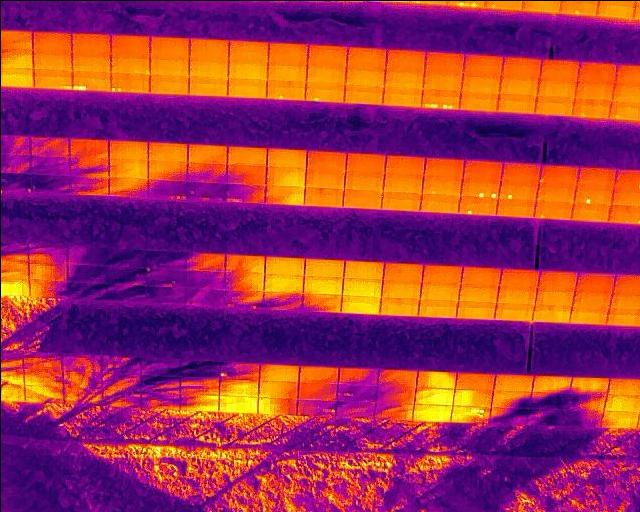Cell: (573, 183, 612, 204), (572, 98, 612, 117), (538, 164, 577, 183), (306, 81, 345, 100), (266, 79, 305, 98), (534, 201, 572, 219), (422, 177, 461, 194), (499, 183, 538, 200), (458, 198, 497, 215), (560, 1, 598, 14)
Cell-Multi: (421, 90, 460, 108), (460, 181, 499, 198), (111, 74, 149, 91), (451, 406, 490, 421)
No-Anomaly: (345, 151, 385, 174), (304, 257, 344, 278), (424, 51, 464, 72), (383, 155, 424, 175), (575, 271, 614, 292), (186, 142, 225, 163), (110, 52, 149, 73), (304, 168, 344, 188), (303, 186, 343, 206), (265, 165, 305, 185), (267, 41, 307, 61), (463, 53, 503, 73), (228, 39, 268, 59), (462, 159, 500, 180), (500, 267, 539, 287), (343, 260, 382, 280), (265, 184, 304, 204), (537, 270, 576, 290), (147, 141, 186, 161), (189, 37, 228, 57), (32, 30, 71, 50), (225, 146, 266, 165), (346, 46, 387, 65), (500, 162, 538, 182), (108, 157, 148, 176), (344, 82, 384, 101), (107, 139, 147, 158), (266, 148, 306, 167), (382, 84, 422, 103), (306, 63, 346, 82), (227, 77, 267, 96), (149, 74, 189, 93), (423, 71, 463, 90), (149, 54, 189, 73), (307, 44, 347, 63), (386, 47, 426, 66), (71, 33, 111, 52), (149, 36, 189, 55), (531, 374, 569, 394), (383, 262, 422, 281), (381, 190, 420, 209), (343, 188, 382, 207), (422, 264, 461, 283), (379, 297, 418, 316), (340, 294, 379, 313), (71, 52, 110, 71), (539, 59, 580, 77), (227, 59, 268, 77), (596, 0, 634, 19), (423, 158, 463, 176), (343, 172, 383, 190), (341, 278, 381, 296), (188, 57, 228, 75), (576, 62, 616, 80), (306, 150, 346, 168), (498, 74, 538, 92), (574, 79, 614, 97), (32, 50, 72, 68), (258, 364, 298, 382), (536, 78, 578, 95), (570, 376, 607, 395), (460, 266, 499, 284), (459, 283, 498, 301), (264, 256, 303, 274), (417, 299, 456, 317), (456, 301, 495, 319), (536, 95, 575, 113), (460, 91, 499, 109), (497, 93, 536, 111), (189, 74, 228, 92), (111, 34, 150, 52), (414, 386, 453, 404), (571, 203, 609, 221), (494, 302, 532, 320), (454, 388, 492, 406), (455, 372, 493, 390), (532, 304, 570, 322), (495, 199, 535, 216), (263, 275, 303, 292), (382, 175, 422, 192), (302, 277, 342, 294), (536, 183, 576, 200), (501, 57, 541, 74), (345, 66, 385, 83), (461, 74, 501, 91), (384, 67, 424, 84), (298, 366, 338, 383), (412, 404, 451, 421), (416, 371, 455, 388), (421, 194, 459, 211), (420, 283, 458, 300), (382, 281, 420, 298), (498, 285, 536, 302), (494, 373, 532, 390), (569, 307, 607, 324), (267, 63, 307, 79), (218, 396, 257, 412), (219, 379, 258, 395), (257, 383, 298, 398), (535, 289, 573, 305), (572, 291, 610, 307), (601, 411, 638, 427), (604, 395, 640, 411), (577, 168, 614, 183)
Shadowing: (62, 383, 103, 406), (23, 383, 64, 404), (185, 182, 224, 204), (225, 251, 264, 273), (67, 244, 107, 265), (185, 270, 225, 291), (27, 243, 68, 263), (27, 263, 68, 283), (28, 176, 69, 196), (67, 283, 108, 303), (147, 179, 186, 200), (67, 263, 107, 283), (224, 183, 264, 203), (68, 137, 108, 157), (219, 360, 259, 380), (62, 367, 104, 386), (145, 269, 184, 289), (29, 280, 68, 300), (184, 251, 225, 270), (108, 176, 148, 195), (28, 156, 68, 175), (225, 164, 265, 183), (107, 284, 145, 304), (302, 293, 340, 313), (29, 137, 69, 156), (186, 163, 225, 182), (69, 176, 108, 195), (263, 292, 302, 311), (338, 366, 377, 385), (492, 390, 531, 409), (530, 391, 569, 410), (23, 367, 64, 385), (185, 290, 225, 308), (146, 289, 186, 307), (561, 410, 601, 428), (335, 403, 375, 421), (336, 384, 376, 402), (22, 349, 62, 367), (69, 158, 108, 176), (225, 273, 264, 291), (224, 292, 263, 310), (376, 368, 415, 386), (140, 375, 179, 393), (146, 250, 184, 268), (107, 266, 145, 284), (107, 249, 145, 267), (148, 161, 186, 179), (374, 403, 412, 421), (297, 382, 337, 399), (375, 386, 414, 403), (296, 399, 336, 415), (256, 397, 296, 413), (138, 394, 178, 410), (178, 394, 218, 410), (178, 379, 218, 395), (139, 359, 179, 375), (179, 361, 219, 377), (567, 394, 604, 411), (489, 409, 530, 423), (529, 411, 560, 424)
Unclassified: (72, 70, 111, 89), (33, 69, 71, 88)
